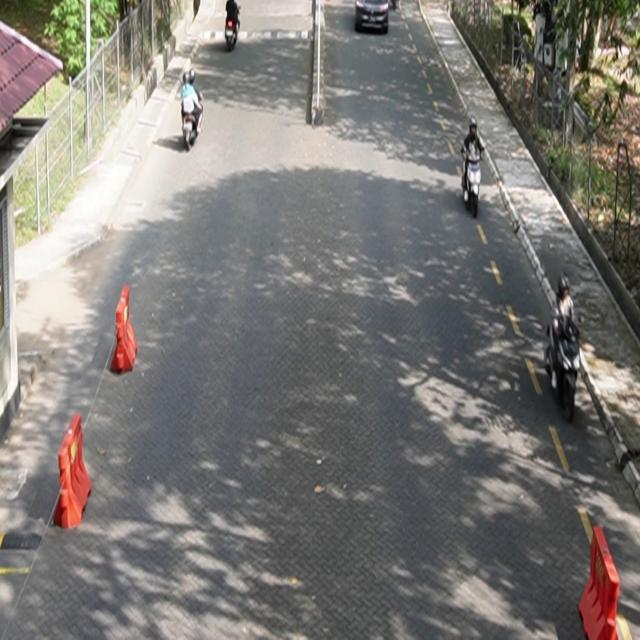car: (356, 1, 390, 35)
